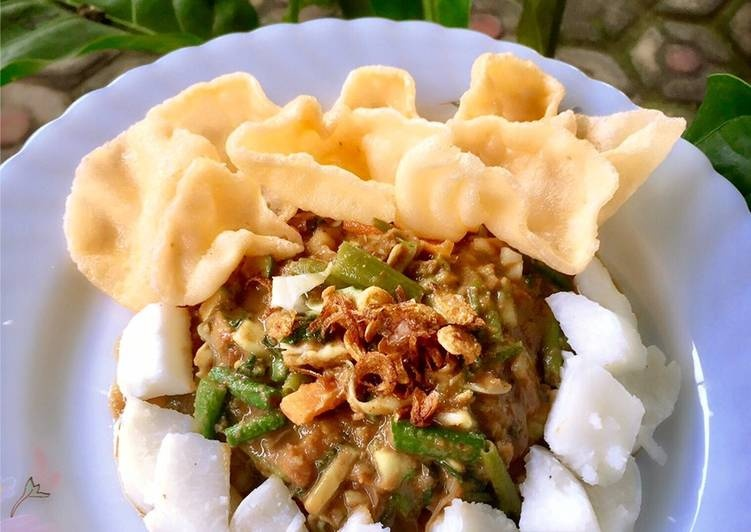pecel: (81, 156, 627, 520)
